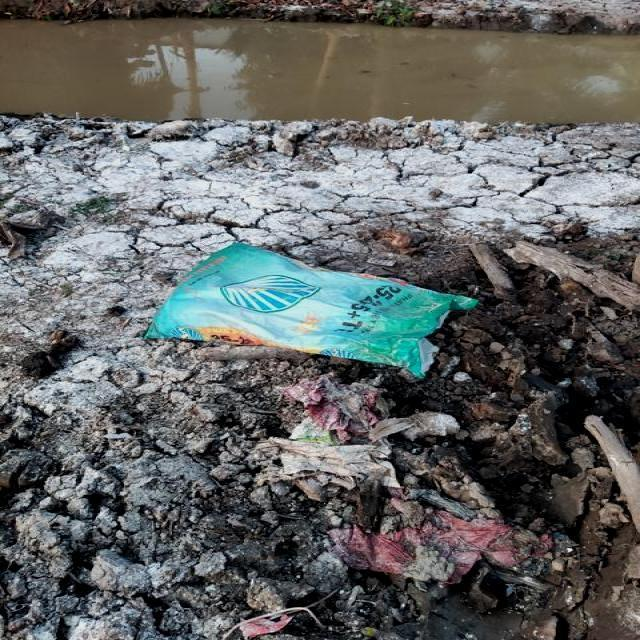gunny_bag: (144, 243, 479, 378)
